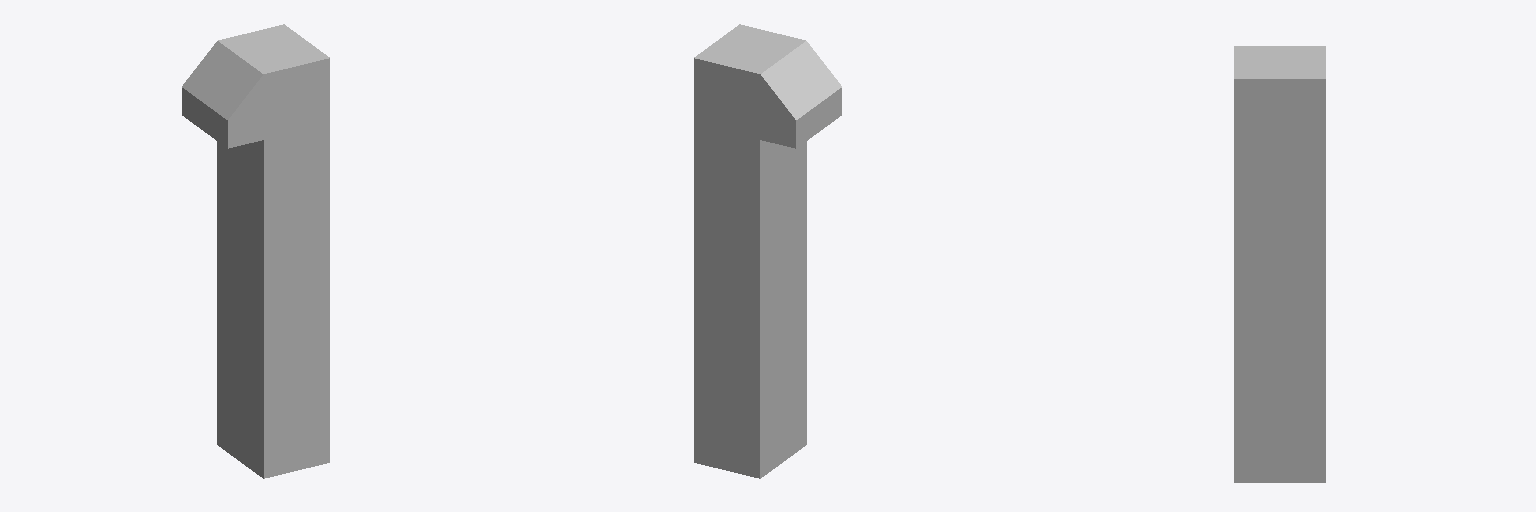
Rendered from one.obj.
3 views of the same model, side by side, from view 1: azimuth 30°, elevation 25°; view 2: azimuth 150°, elevation 25°; view 3: azimuth 270°, elevation 25° (orthographic).
Visible parts, largest first — view 1: Cube; view 2: Cube; view 3: Cube.
Part boxes in pixels (left/top/right/bottom): Cube: left=182, top=24, right=329, bottom=478; Cube: left=694, top=24, right=841, bottom=478; Cube: left=1234, top=46, right=1325, bottom=482.
Size of the model in its own units: 0.1286 by 0.4841 by 0.1.